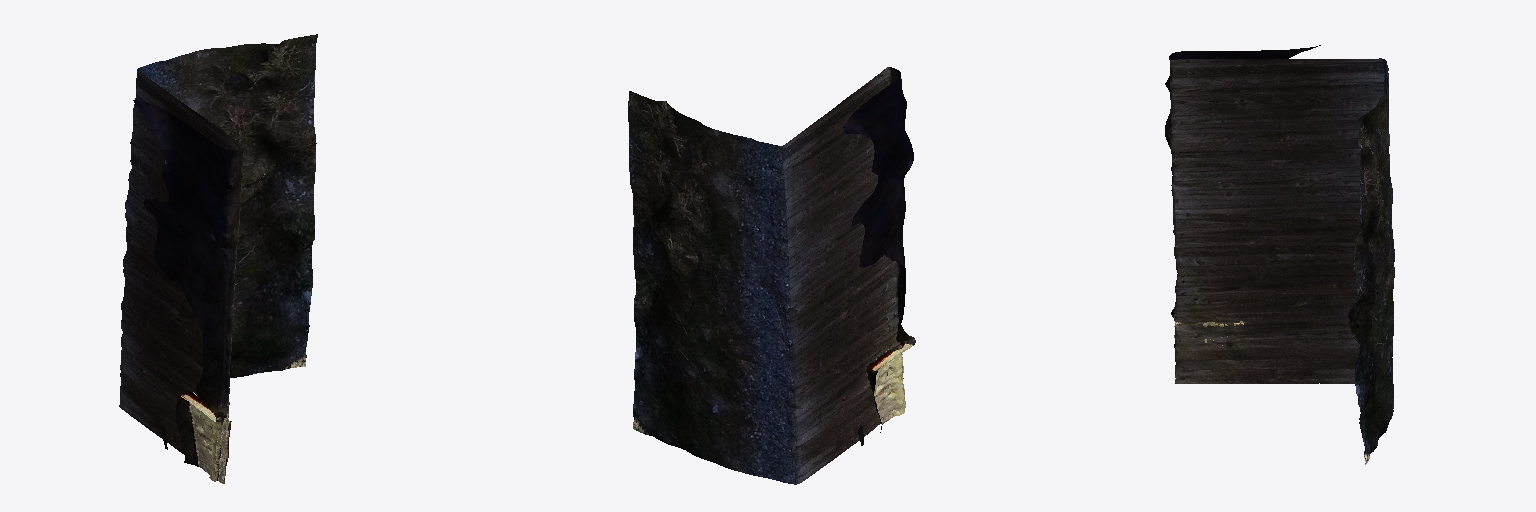
3 renders of one model, left to right at view 1: azimuth 30°, elevation 25°; view 2: azimuth 150°, elevation 25°; view 3: azimuth 270°, elevation 25°, orthographic.
Bounding box in the file's own units: 1.99 × 3.21 × 1.98.
2 materials, 1 textured.